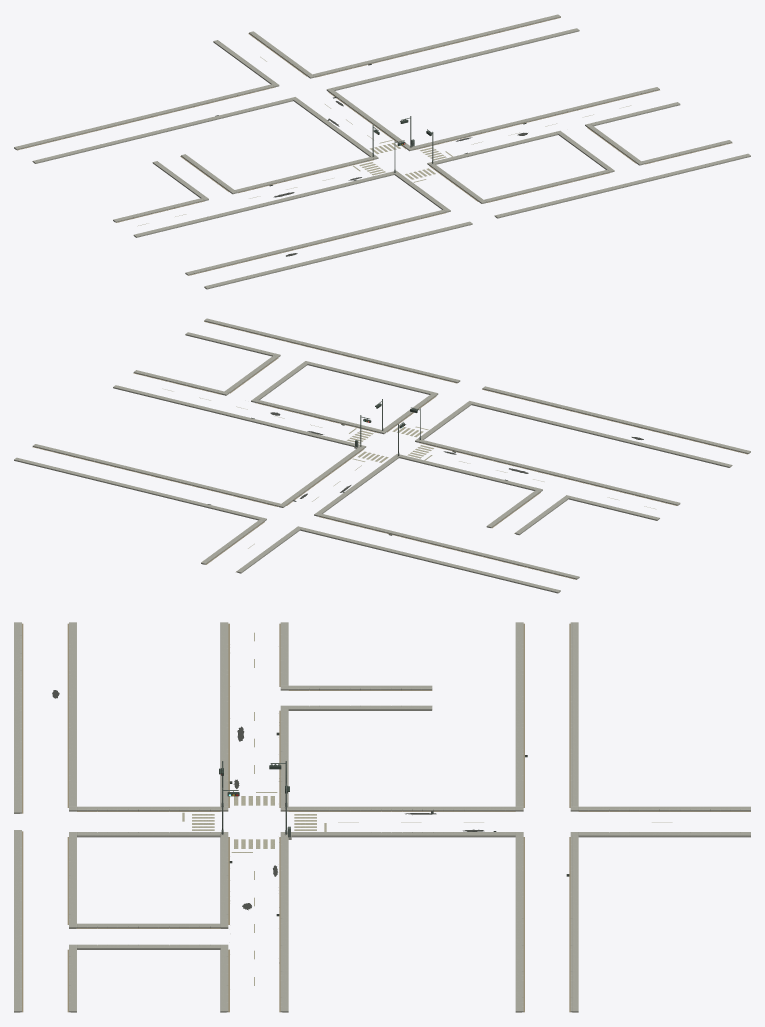
The model's file is streets-v7.glb.
3 views of the same model, one above another, from view 1: azimuth 30°, elevation 25°; view 2: azimuth 150°, elevation 25°; view 3: azimuth 270°, elevation 25° (orthographic). The views are drawn at different scales.
Parts seen in each view (by area): view 1: street_detail; view 2: street_detail; view 3: street_detail.
Boxes of the visible parts, bbox=[...] form: street_detail: bbox=[14, 14, 750, 289]; street_detail: bbox=[14, 318, 750, 593]; street_detail: bbox=[14, 622, 750, 1012].
Size of the model in its own units: 88 by 5.13 by 70.51.
Materials: 18 (4 with a texture image).
